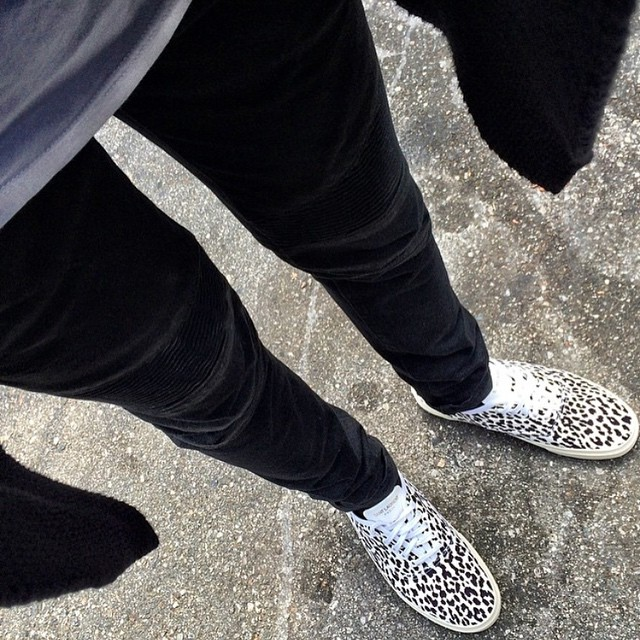sneaker: (321, 458, 537, 636), (400, 342, 640, 478)
